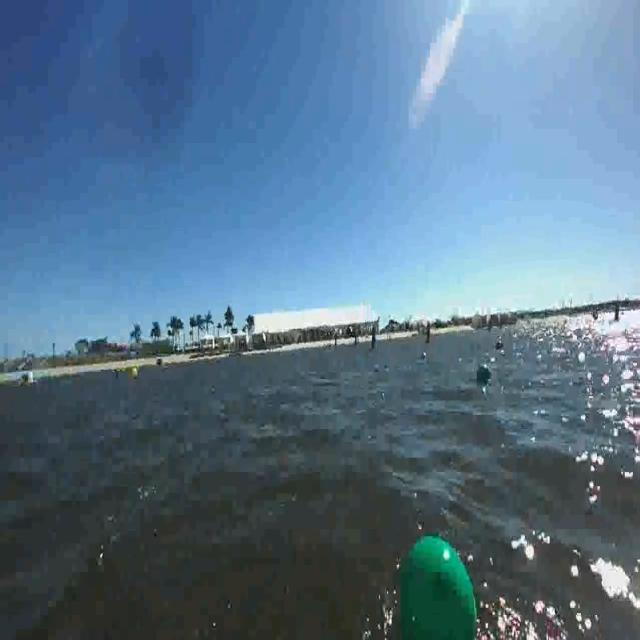green-buoy: (398, 530, 479, 638), (478, 363, 491, 381)
yellow-buoy: (132, 362, 140, 379)
